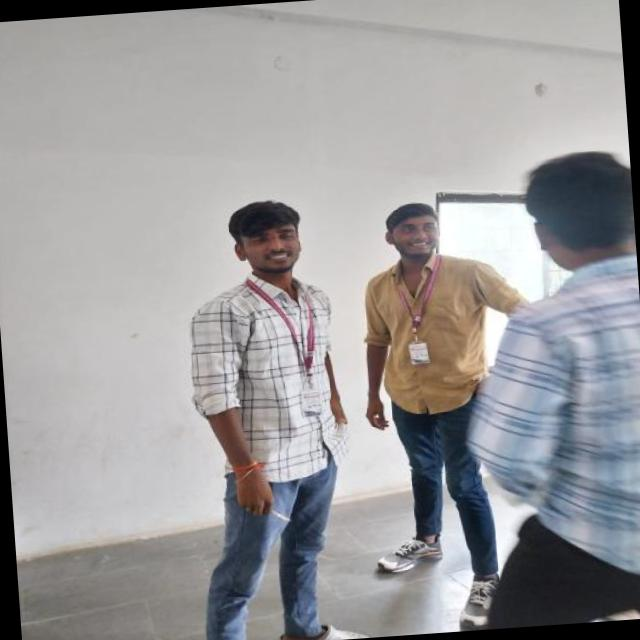id_card: (249, 269, 326, 426), (393, 255, 442, 368)
